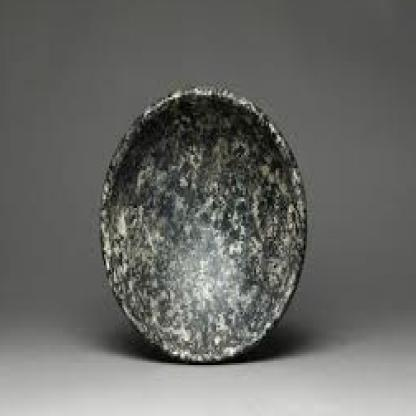Igneous_Diorite: (104, 75, 310, 363)
